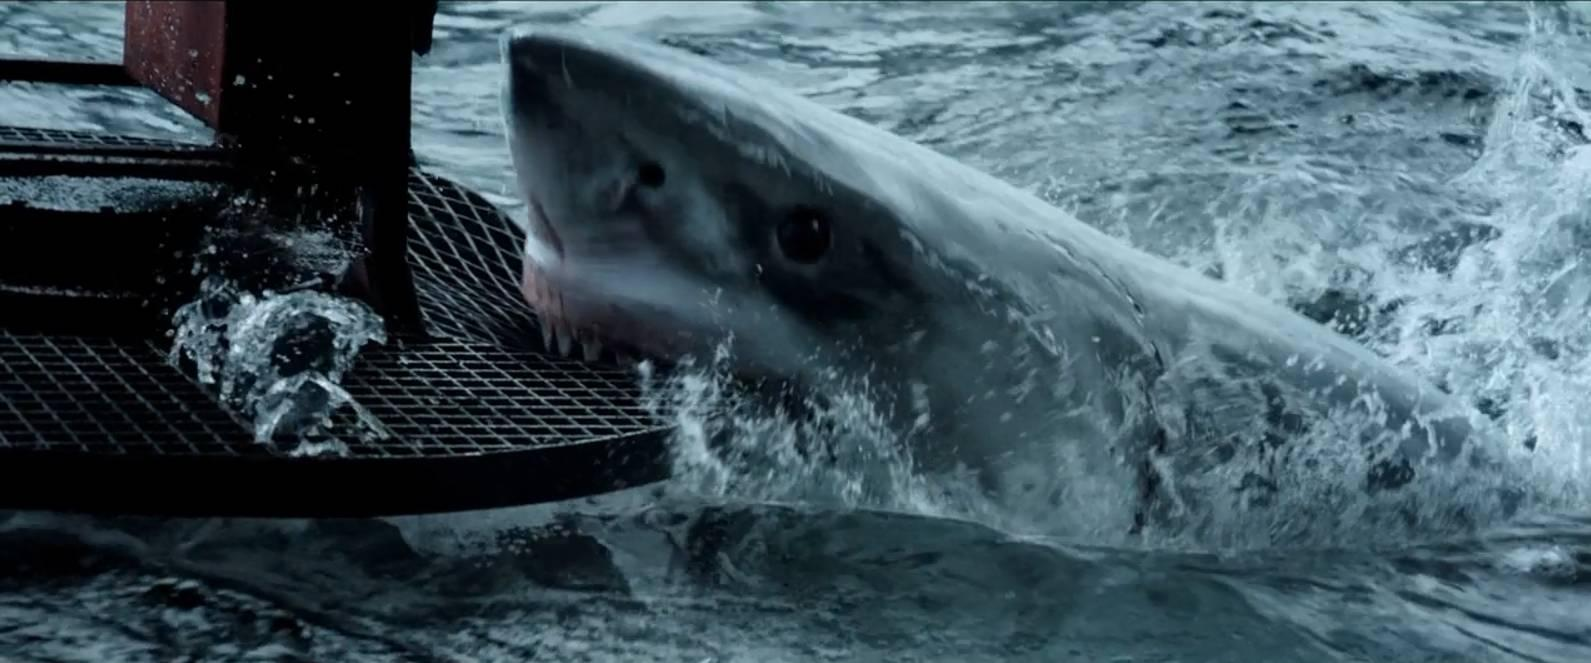fish: (486, 28, 1576, 538)
